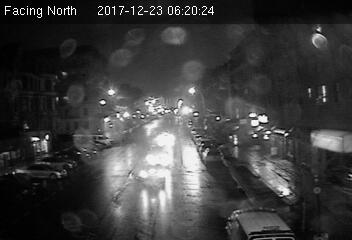car: (135, 163, 166, 184), (202, 147, 226, 164)
police: (224, 208, 293, 240)
